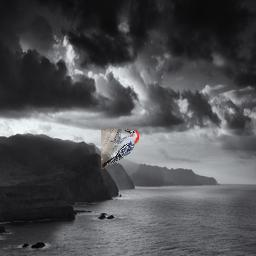Woodpecker: (101, 129, 139, 169)
